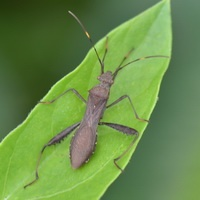insect: (14, 1, 170, 199)
